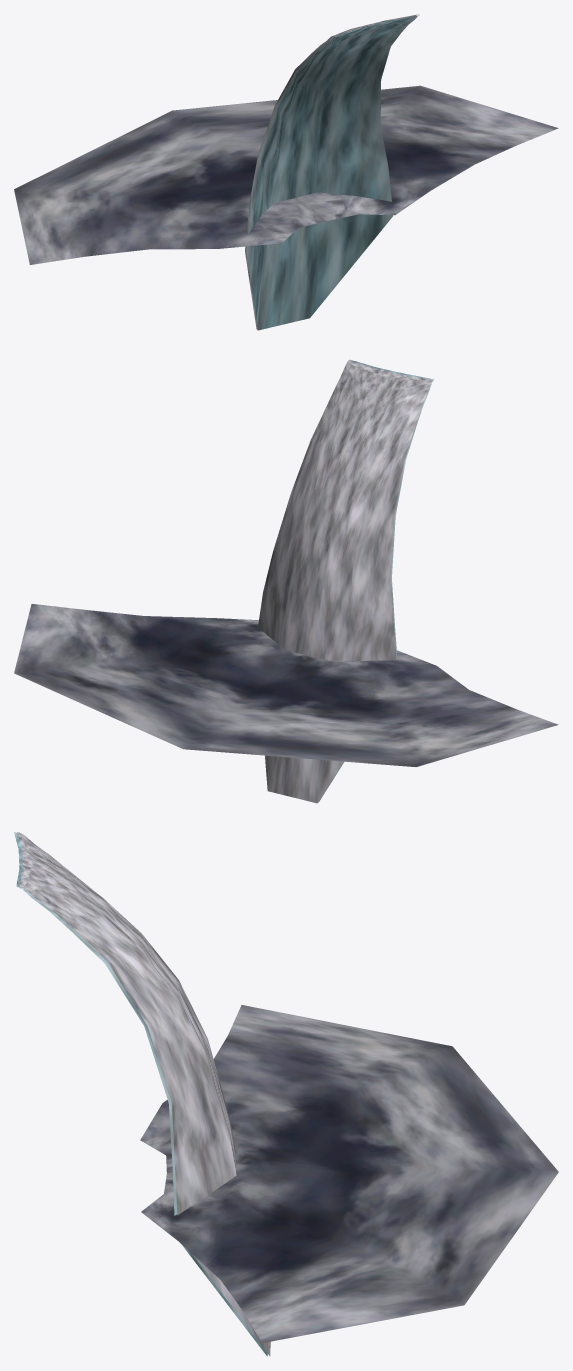
File: LONE_MOUNTAIN_WATERFALLS_WATERFALL_LAKE.obj
3 views of the same model, one above another, from view 1: azimuth 30°, elevation 25°; view 2: azimuth 150°, elevation 25°; view 3: azimuth 270°, elevation 25° (orthographic). The views are drawn at different scales.
Parts seen in each view (by area): view 1: waterfall_lake; view 2: waterfall_lake; view 3: waterfall_lake.
Part boxes in pixels (<box>): waterfall_lake: <box>14,14,558,330</box>; waterfall_lake: <box>14,359,558,803</box>; waterfall_lake: <box>14,832,558,1356</box>.
Size of the model in its own units: 1202 by 793 by 818.
